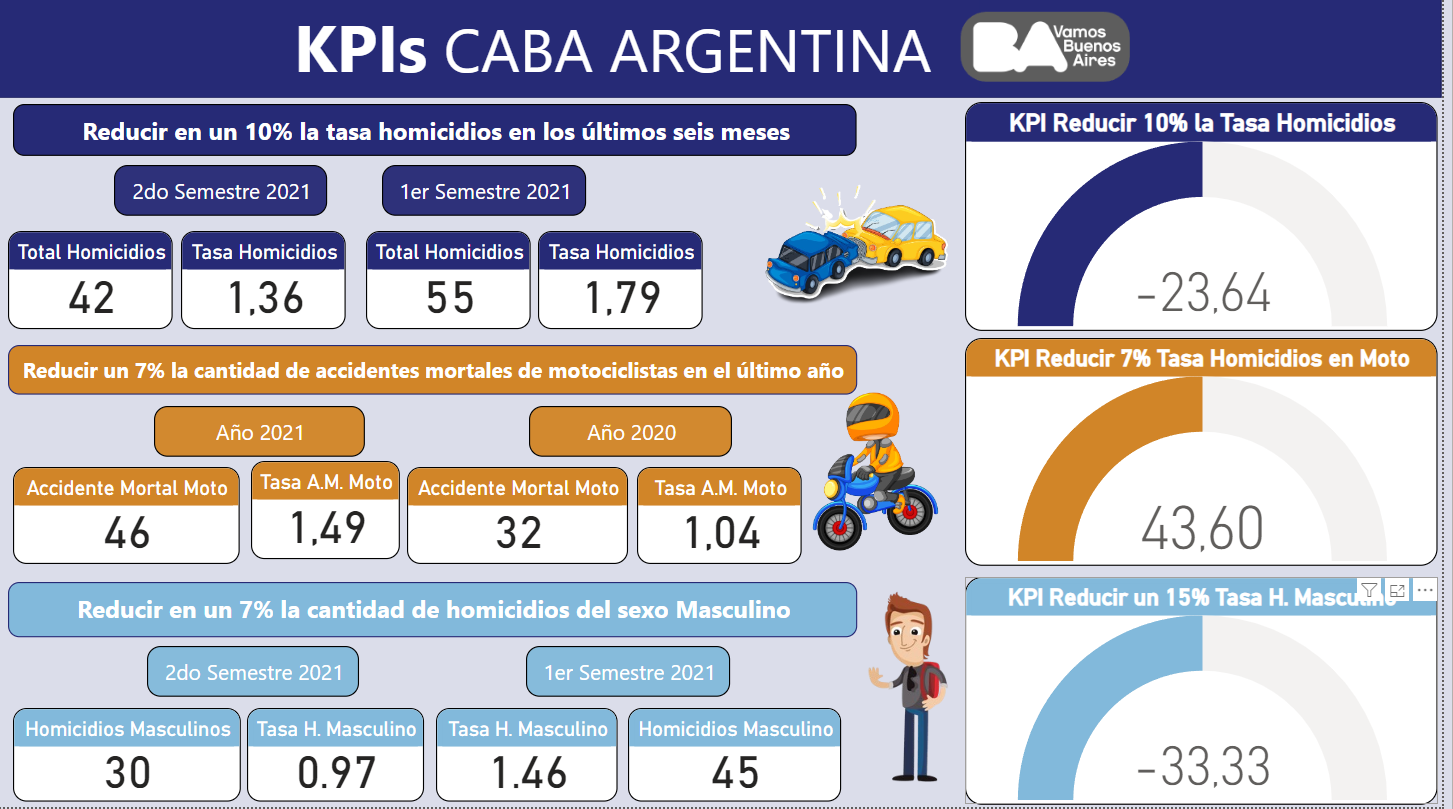

What the dashboard file says about the page in this screenshot:
{"tool":"powerbi","page":{"name":"KPIs","canvas":[1280,720],"ordinal":3},"visuals":[{"type":"card","title":"Total Homicidios","fields":{"Values":["DAX KPIs.Homicidios_S2_2021"]},"box":[8.9,209.7,146,87],"z":0},{"type":"card","title":"Tasa Homicidios","fields":{"Values":["DAX KPIs.Tasa_Homicidios_S2_2021"]},"box":[161.9,209.7,146,87],"z":1000},{"type":"card","title":"Total Homicidios","fields":{"Values":["DAX.T_Anterior_Victimas_Ultimos_6_Meses"]},"box":[325.9,209.7,146,87],"z":2000},{"type":"card","title":"Tasa Homicidios","fields":{"Values":["DAX.Tasa_Homicidios_Anterior"]},"box":[478.9,209.7,146,87],"z":3000},{"type":"gauge","title":"KPI Reducir 10% la Tasa Homicidios","fields":{"Y":["DAX KPIs.KPI_1"]},"box":[857.5,94.6,419.2,202.8],"z":4000},{"type":"shape","box":[0,0,1280,91.4],"z":5000},{"type":"textbox","box":[257.6,0,612.9,88.6],"z":6000},{"type":"image","box":[849,8.6,160,74.3],"z":7000},{"type":"textbox","box":[102.5,151.1,189.3,45.1],"z":8000},{"type":"textbox","box":[340.3,151.1,181.4,45.1],"z":9000},{"type":"textbox","box":[138.6,364.3,187,45.1],"z":10000},{"type":"textbox","box":[471,364.3,180.3,45.1],"z":11000},{"type":"card","title":"Accidente Mortal Moto","fields":{"Values":["DAX KPIs.Total_Victimas_Motos_2021"]},"box":[13.3,414.1,200.4,85.1],"z":12000},{"type":"card","title":"Accidente Mortal Moto","fields":{"Values":["DAX.Total_Victimas_Motos_2020"]},"box":[362.9,418.4,196.1,85.6],"z":13000},{"type":"card","title":"Tasa A.M. Moto","fields":{"Values":["DAX KPIs.Tasa_Homicidios_Moto_2021"]},"box":[224.2,413.5,131.8,86.8],"z":14000},{"type":"card","title":"Tasa A.M. Moto","fields":{"Values":["DAX KPIs.Tasa_Homicidios_Moto_2020"]},"box":[566.8,418.4,146.5,85.6],"z":15000},{"type":"gauge","title":"KPI Reducir 7% Tasa Homicidios en Moto","fields":{"Y":["DAX KPIs.KPI_2"]},"box":[857.5,304.2,419.2,201.7],"z":16000},{"type":"card","title":"Homicidios Masculinos","fields":{"Values":["DAX.Total_Victimas_Sexo_2021"]},"box":[13.5,632,201.7,83.4],"z":17000},{"type":"card","title":"Homicidios Masculino","fields":{"Values":["DAX.Total_Victimas_Femenino_2020"]},"box":[558.9,632,189.3,83.4],"z":18000},{"type":"textbox","box":[132.2,577.6,188.2,45.1],"z":19000},{"type":"textbox","box":[467.9,577.6,181.4,45.1],"z":20000},{"type":"card","title":"Tasa H. Masculino","fields":{"Values":["DAX.Tasa_Homicidios_Masculino_S2_2021"]},"box":[220.8,632,156.6,83.4],"z":21000},{"type":"card","title":"Tasa H. Masculino","fields":{"Values":["DAX.Tasa_Homicidios_Masculino_S1_2021"]},"box":[388.7,632,161.1,83.4],"z":22000},{"type":"gauge","title":"KPI Reducir un 15% Tasa H. Masculino","fields":{"Y":["DAX KPIs.KPI_3"]},"box":[857.5,516.1,419.2,201.7],"z":23000},{"type":"textbox","box":[13.5,96.9,748.2,46.2],"z":24000},{"type":"textbox","box":[9.1,310.2,752.7,43.9],"z":25000},{"type":"image","box":[708.7,343.7,139.7,156.6],"z":26000},{"type":"textbox","box":[8.8,520.6,753.3,49.1],"z":27000},{"type":"image","box":[669.3,143.1,184.8,153.2],"z":28000},{"type":"image","box":[748,506,123,214],"z":29000}]}

Visuals, with their boxes in screenshot pixels (x1, y1, x2, y2), scaled from the page's 1280x720 canvas onto the 1453x809 screenshot:
"Total Homicidios" card: crop(10, 236, 176, 333)
"Tasa Homicidios" card: crop(184, 236, 350, 333)
"Total Homicidios" card: crop(370, 236, 536, 333)
"Tasa Homicidios" card: crop(544, 236, 709, 333)
"KPI Reducir 10% la Tasa Homicidios" gauge: crop(973, 106, 1449, 334)
shape: crop(0, 0, 1452, 103)
textbox: crop(292, 0, 988, 100)
image: crop(964, 10, 1145, 93)
textbox: crop(116, 170, 331, 220)
textbox: crop(386, 170, 592, 220)
textbox: crop(157, 409, 370, 460)
textbox: crop(535, 409, 739, 460)
"Accidente Mortal Moto" card: crop(15, 465, 243, 561)
"Accidente Mortal Moto" card: crop(412, 470, 635, 566)
"Tasa A.M. Moto" card: crop(255, 465, 404, 562)
"Tasa A.M. Moto" card: crop(643, 470, 810, 566)
"KPI Reducir 7% Tasa Homicidios en Moto" gauge: crop(973, 342, 1449, 568)
"Homicidios Masculinos" card: crop(15, 710, 244, 804)
"Homicidios Masculino" card: crop(634, 710, 849, 804)
textbox: crop(150, 649, 364, 700)
textbox: crop(531, 649, 737, 700)
"Tasa H. Masculino" card: crop(251, 710, 428, 804)
"Tasa H. Masculino" card: crop(441, 710, 624, 804)
"KPI Reducir un 15% Tasa H. Masculino" gauge: crop(973, 580, 1449, 807)
textbox: crop(15, 109, 865, 161)
textbox: crop(10, 349, 865, 398)
image: crop(804, 386, 963, 562)
textbox: crop(10, 585, 865, 640)
image: crop(760, 161, 970, 333)
image: crop(849, 569, 989, 808)
